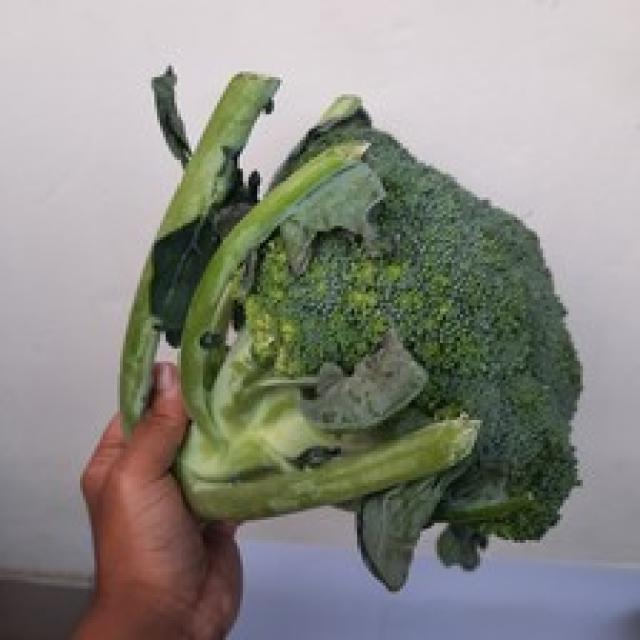Broccoli: (125, 69, 581, 589), (125, 69, 580, 589)
